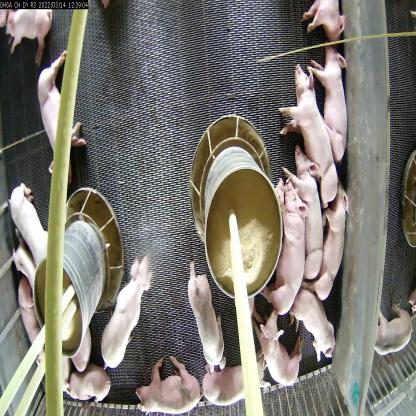Pig: (274, 58, 342, 217), (303, 44, 361, 174), (36, 50, 91, 179), (100, 248, 150, 379), (285, 278, 350, 377), (182, 252, 230, 378), (288, 144, 326, 293), (252, 306, 308, 398), (274, 175, 308, 322), (320, 183, 356, 316), (135, 347, 204, 412), (13, 276, 50, 392), (202, 361, 276, 411), (10, 181, 52, 266), (367, 295, 415, 369), (0, 6, 59, 62), (301, 0, 351, 49), (64, 370, 113, 403)
